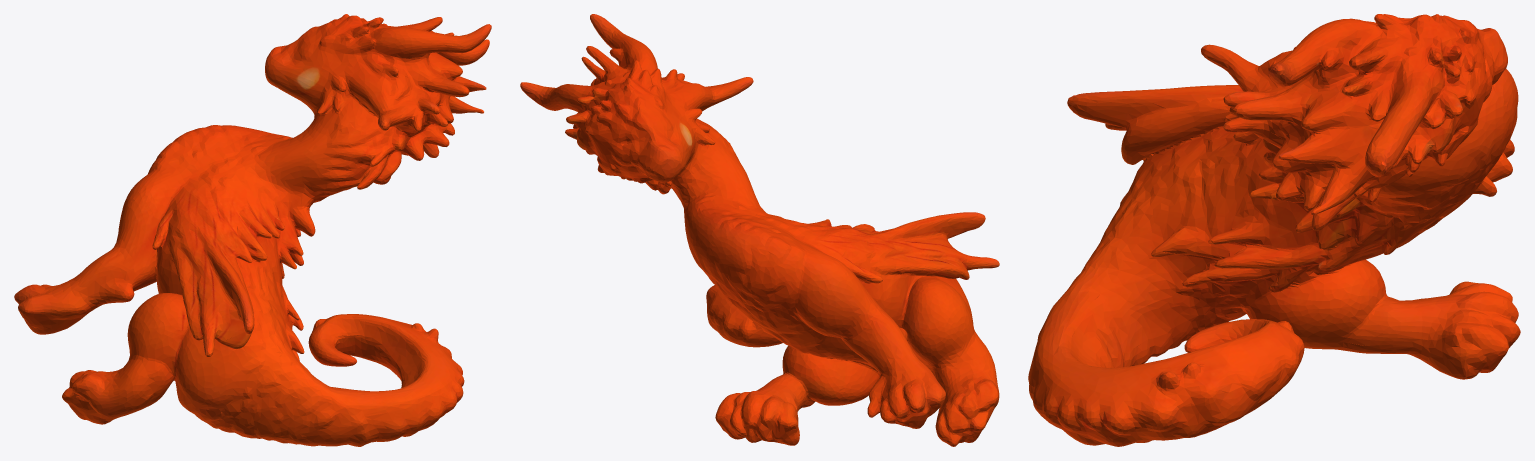
The model's file is elegant-dragon.glb.
3 renders of one model, left to right at view 1: azimuth 30°, elevation 25°; view 2: azimuth 150°, elevation 25°; view 3: azimuth 270°, elevation 25°, orthographic. The views are drawn at different scales.
Parts seen in each view (by area): view 1: elegant dragon_textured.obj; view 2: elegant dragon_textured.obj; view 3: elegant dragon_textured.obj.
Part boxes in pixels (x1=…): elegant dragon_textured.obj: x1=14, y1=14, x2=491, y2=446; elegant dragon_textured.obj: x1=520, y1=14, x2=999, y2=446; elegant dragon_textured.obj: x1=1028, y1=14, x2=1520, y2=446.
Bounding box in the file's own units: 1.99 × 1.39 × 1.32.
1 material, 1 textured.
